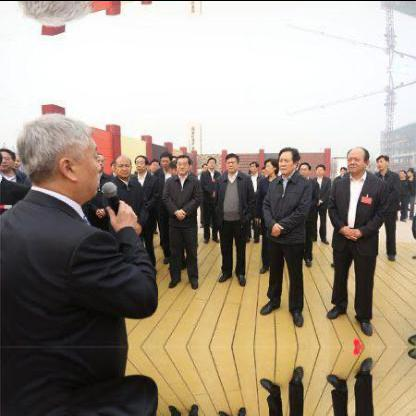No Helmet: (16, 109, 100, 209), (15, 0, 101, 28), (344, 142, 368, 172), (276, 144, 296, 174), (112, 153, 130, 179), (175, 151, 191, 173), (1, 144, 15, 168), (261, 155, 277, 175), (374, 152, 388, 172), (224, 151, 238, 170), (133, 152, 147, 170), (297, 160, 311, 178), (158, 149, 170, 167), (147, 157, 159, 173), (204, 153, 216, 167), (246, 158, 258, 172), (314, 161, 326, 175)
